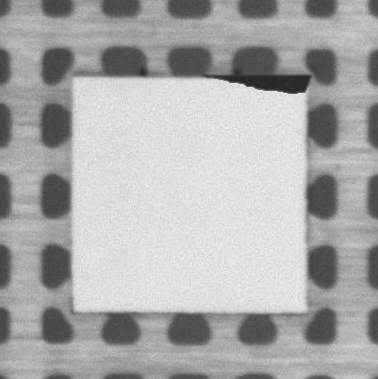DIE_BROKEN: (205, 72, 312, 94)
